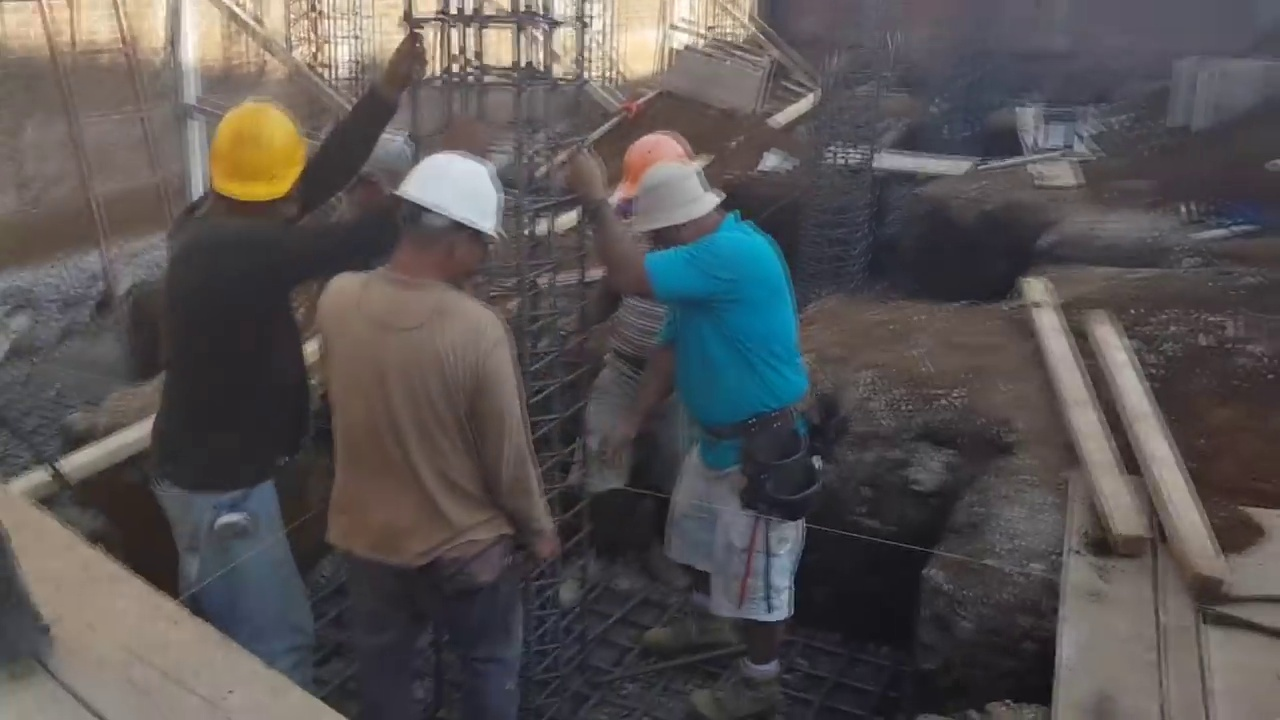helmet: (390, 147, 501, 249), (203, 95, 307, 202), (613, 132, 711, 206)
helmet-off: (626, 167, 734, 251)
helmet-on: (378, 144, 500, 299), (187, 91, 302, 227), (613, 136, 712, 234)
person: (154, 31, 426, 673), (569, 131, 823, 707), (304, 145, 557, 704), (557, 134, 712, 603)
